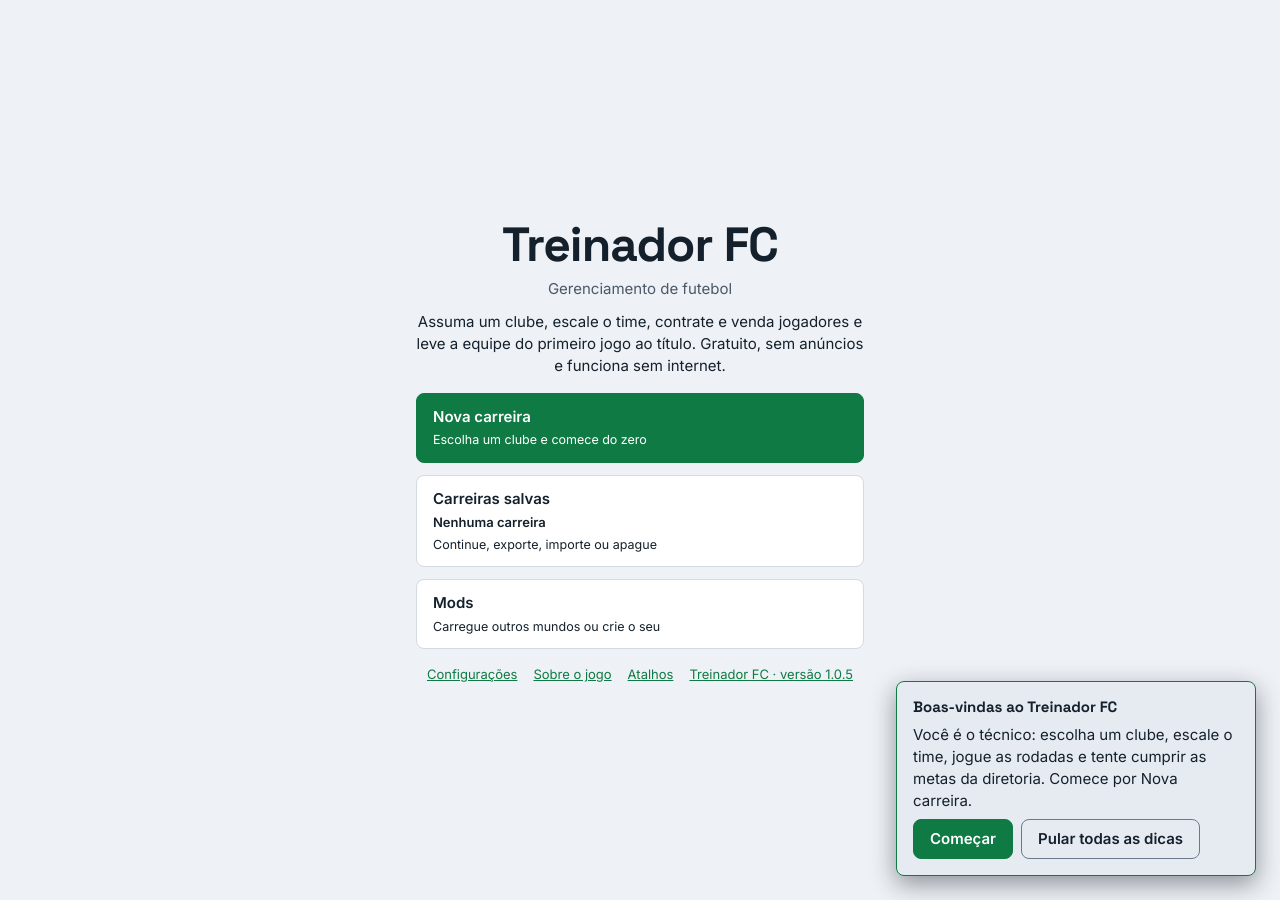
Scenario: ajuda de atalhos (031 US7) › abre pelo menu em um diálogo com os atalhos gerais, prende o foco e o devolve ao fechar
Click the button "Atalhos".
click(650, 674)  # box 628,665 -> 673,684
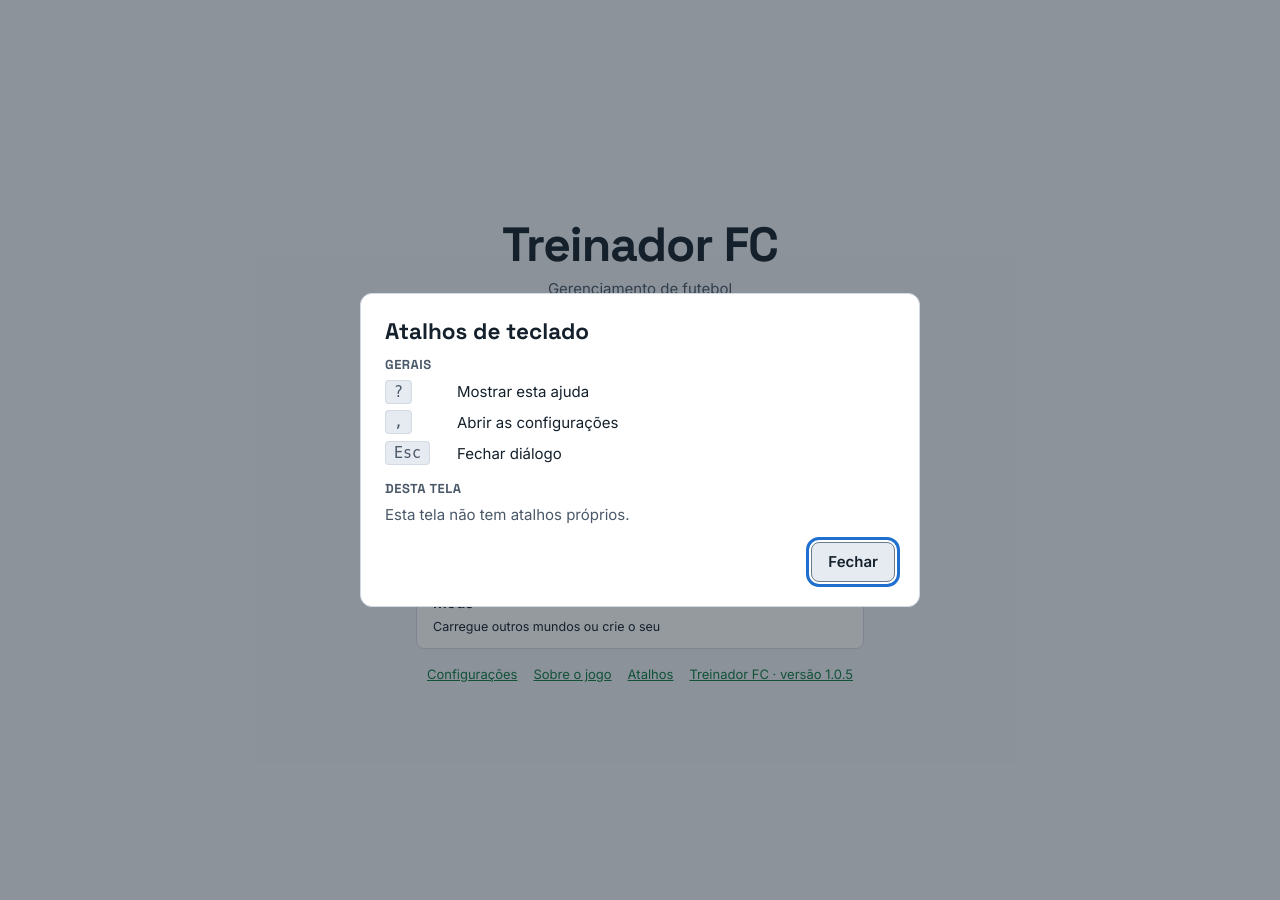
Result: the heading "Gerais" is shown at 385,357 -> 432,373
Result: the heading "Desta tela" is shown at 385,480 -> 462,497
// O foco fica dentro do diálogo e Tab não o deixa sair.
Press Tab
Press Tab
Press Escape
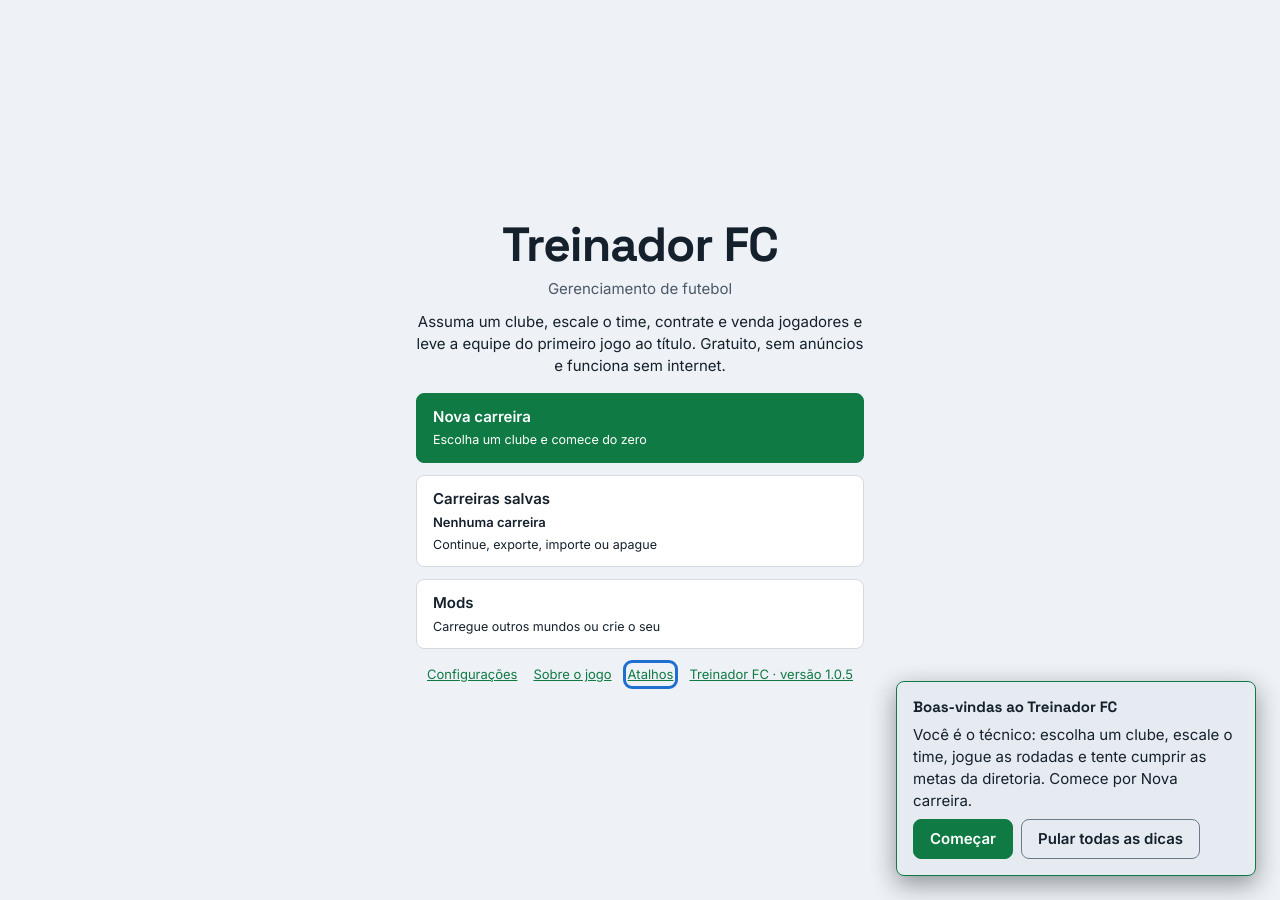
Result: the dialog is gone
